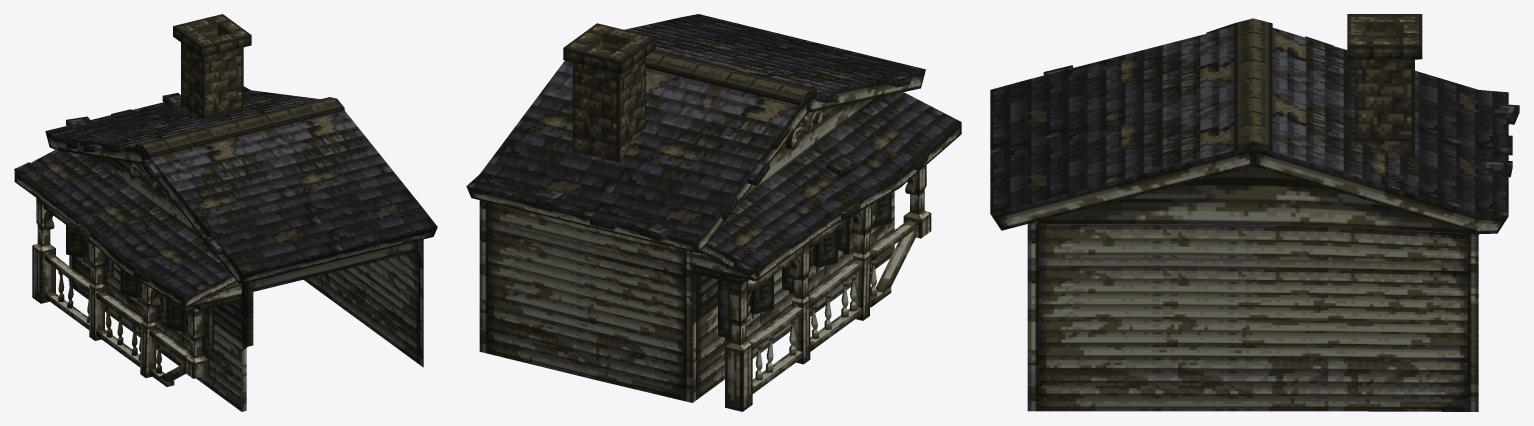
File: EnvBdgMD_Wilderness_A_Outdoor_A_2F_Broken.FBX
The picture shows the model from 3 angles, left to right: view 1: azimuth 30°, elevation 25°; view 2: azimuth 150°, elevation 25°; view 3: azimuth 270°, elevation 25°; orthographic projection. The views are drawn at different scales.
Visible parts, largest first — view 1: EnvBdgMD_Wilderness_A_Outdoor_A_2F_Broken; view 2: EnvBdgMD_Wilderness_A_Outdoor_A_2F_Broken; view 3: EnvBdgMD_Wilderness_A_Outdoor_A_2F_Broken.
Boxes of the visible parts, x1,y1,x2,y2 form: EnvBdgMD_Wilderness_A_Outdoor_A_2F_Broken: (14, 14, 437, 411); EnvBdgMD_Wilderness_A_Outdoor_A_2F_Broken: (466, 14, 961, 411); EnvBdgMD_Wilderness_A_Outdoor_A_2F_Broken: (990, 14, 1519, 411).
Size of the model in its own units: 496 by 491 by 705.
Materials: 1 (1 with a texture image).
